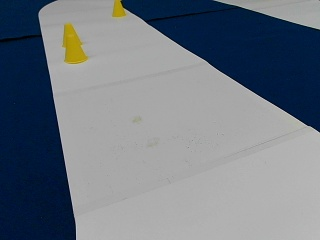cone: (61, 24, 87, 63), (111, 1, 125, 17)
